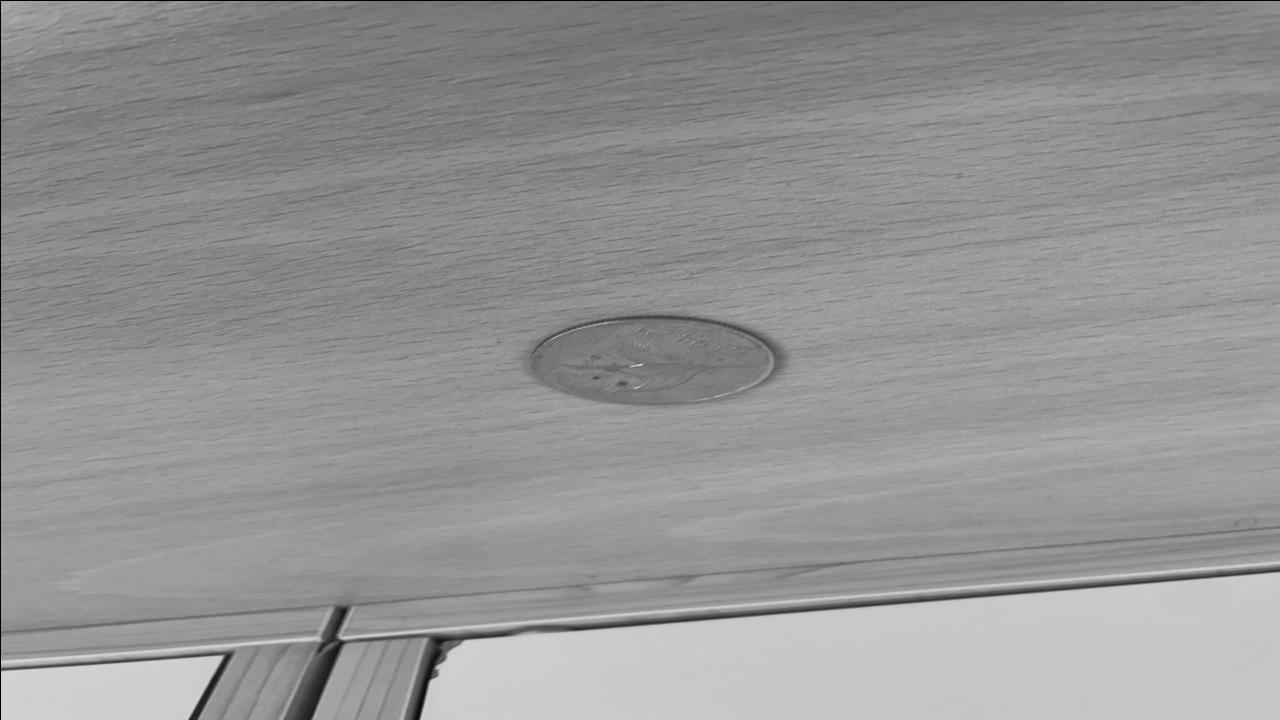coin: (524, 314, 786, 408)
